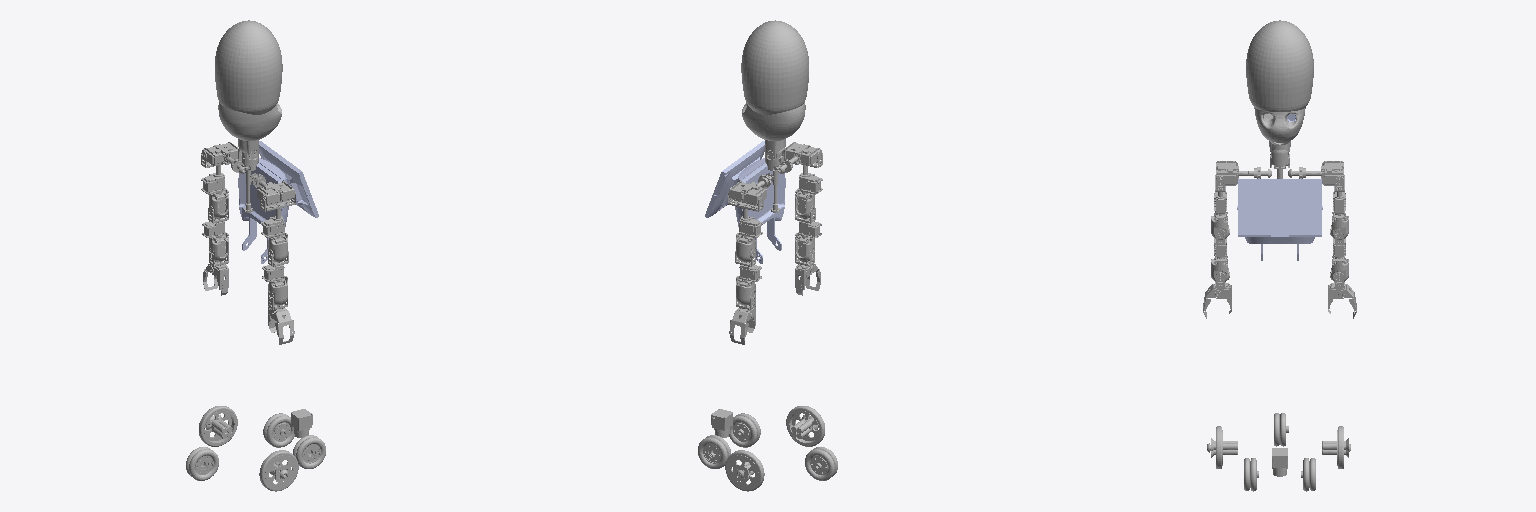
--- Facts derived from the render (not from the file) ---
3 views of the same robot in one strip: view 1: azimuth 30°, elevation 25°; view 2: azimuth 150°, elevation 25°; view 3: azimuth 270°, elevation 25° (orthographic).
Model bubot_description with 27 links and 26 joints (18 revolute, 5 continuous, 3 fixed), rooted at base_link, posed every joint at zero.
Links seen in each view (by area): view 1: head_pitch_link, tray_pitch_link, left_wheel_link, right_wheel_link, rear_wheel_link, right_front_wheel_link, left_front_wheel_link, right_arm_shoulder_pitch_link, left_arm_shoulder_pitch_link, right_arm_shoulder_roll_link, left_arm_shoulder_roll_link; view 2: head_pitch_link, tray_pitch_link, right_wheel_link, left_wheel_link, rear_wheel_link, left_front_wheel_link, right_front_wheel_link, left_arm_shoulder_pitch_link, right_arm_shoulder_pitch_link, left_arm_shoulder_roll_link, right_arm_shoulder_roll_link; view 3: head_pitch_link, tray_pitch_link, left_arm_shoulder_pitch_link, right_arm_shoulder_pitch_link, right_wheel_link, left_wheel_link.
Boxes of the visible links, <box> form: head_pitch_link: <box>215,20,282,157</box>; tray_pitch_link: <box>238,141,318,263</box>; left_wheel_link: <box>199,406,237,446</box>; right_wheel_link: <box>259,450,298,491</box>; rear_wheel_link: <box>186,447,218,480</box>; right_front_wheel_link: <box>293,435,325,468</box>; left_front_wheel_link: <box>263,413,294,447</box>; right_arm_shoulder_pitch_link: <box>250,173,294,205</box>; left_arm_shoulder_pitch_link: <box>202,142,245,173</box>; right_arm_shoulder_roll_link: <box>260,187,295,237</box>; left_arm_shoulder_roll_link: <box>201,151,235,194</box>; head_pitch_link: <box>741,20,808,157</box>; tray_pitch_link: <box>705,141,785,263</box>; right_wheel_link: <box>786,406,824,446</box>; left_wheel_link: <box>725,450,764,491</box>; rear_wheel_link: <box>805,447,837,480</box>; left_front_wheel_link: <box>698,435,730,468</box>; right_front_wheel_link: <box>729,413,760,447</box>; left_arm_shoulder_pitch_link: <box>729,173,773,205</box>; right_arm_shoulder_pitch_link: <box>778,142,821,173</box>; left_arm_shoulder_roll_link: <box>728,187,763,237</box>; right_arm_shoulder_roll_link: <box>788,151,822,194</box>; head_pitch_link: <box>1246,20,1313,154</box>; tray_pitch_link: <box>1237,179,1322,260</box>; left_arm_shoulder_pitch_link: <box>1288,161,1343,185</box>; right_arm_shoulder_pitch_link: <box>1216,161,1271,185</box>; right_wheel_link: <box>1207,426,1237,468</box>; left_wheel_link: <box>1322,426,1350,468</box>.
Size in the robot's own frame: 0.414 by 0.4535 by 1.45 metres.
24 mesh visuals loaded from 27 distinct referenced files (24 binary STL); not drawn: 3 (reference not matched to a file when rendering).

The robot description file, URDF, robot "bubot_description":
<?xml version="1.0" encoding="utf-8"?>
<!-- This URDF was automatically created by SolidWorks to URDF Exporter! Originally created by Stephen Brawner ([email redacted]) 
     Commit Version: 1.5.0-0-g9aa0fdb  Build Version: 1.5.7004.21443
     For more information, please see http://wiki.ros.org/sw_urdf_exporter -->
<robot
  name="bubot_description">
  <link
    name="base_link">
    <inertial>
      <origin
        xyz="0.00614507467316344 0.00132442548214557 0.111279328924944"
        rpy="0 0 0" />
      <mass
        value="17.5407923723636" />
      <inertia
        ixx="0.469469086185873"
        ixy="0.000459258543047036"
        ixz="0.0195713811597716"
        iyy="0.488079163056402"
        iyz="-0.00170511359318661"
        izz="0.269766482328618" />
    </inertial>
    <visual>
      <origin
        xyz="0 0 0"
        rpy="0 0 0" />
      <geometry>
        <mesh
          filename="package://bubot_description/meshes/base_link.STL" />
      </geometry>
      <material
        name="">
        <color
          rgba="0.792156862745098 0.819607843137255 0.933333333333333 1" />
      </material>
    </visual>
    <collision>
      <origin
        xyz="0 0 0"
        rpy="0 0 0" />
      <geometry>
        <mesh
          filename="package://bubot_description/meshes/base_link.STL" />
      </geometry>
    </collision>
  </link>
  <link
    name="left_wheel_link">
    <inertial>
      <origin
        xyz="-7.84851523104154E-11 -0.00332107438012788 8.73111291599393E-10"
        rpy="0 0 0" />
      <mass
        value="0.287293505141149" />
      <inertia
        ixx="0.000307503313942651"
        ixy="2.95562518254029E-12"
        ixz="-1.22548541274726E-17"
        iyy="0.000432551955047046"
        iyz="-3.80638695771607E-11"
        izz="0.000307503317768079" />
    </inertial>
    <visual>
      <origin
        xyz="0 0 0"
        rpy="0 0 0" />
      <geometry>
        <mesh
          filename="package://bubot_description/meshes/left_wheel_link.STL" />
      </geometry>
      <material
        name="">
        <color
          rgba="0.752941176470588 0.752941176470588 0.752941176470588 1" />
      </material>
    </visual>
    <collision>
      <origin
        xyz="0 0 0"
        rpy="0 0 0" />
      <geometry>
        <mesh
          filename="package://bubot_description/meshes/left_wheel_link.STL" />
      </geometry>
    </collision>
  </link>
  <joint
    name="left_wheel_joint"
    type="continuous">
    <origin
      xyz="0 0.1795 -0.0814300000000002"
      rpy="0 0 0" />
    <parent
      link="base_link" />
    <child
      link="left_wheel_link" />
    <axis
      xyz="0 -0.999999999999957 0" />
    
      
  </joint>
  <link
    name="right_wheel_link">
    <inertial>
      <origin
        xyz="4.93461377815295E-11 0.00299505405611283 7.77355430026105E-10"
        rpy="0 0 0" />
      <mass
        value="0.287293505141148" />
      <inertia
        ixx="0.00030858947346633"
        ixy="2.0428470969486E-12"
        ixz="1.19749316134548E-17"
        iyy="0.000432551955047045"
        iyz="3.77544364458498E-11"
        izz="0.000308589477291759" />
    </inertial>
    <visual>
      <origin
        xyz="0 0 0"
        rpy="0 0 0" />
      <geometry>
        <mesh
          filename="package://bubot_description/meshes/right_wheel_link.STL" />
      </geometry>
      <material
        name="">
        <color
          rgba="0.752941176470588 0.752941176470588 0.752941176470588 1" />
      </material>
    </visual>
    <collision>
      <origin
        xyz="0 0 0"
        rpy="0 0 0" />
      <geometry>
        <mesh
          filename="package://bubot_description/meshes/right_wheel_link.STL" />
      </geometry>
    </collision>
  </link>
  <joint
    name="right_wheel_joint"
    type="continuous">
    <origin
      xyz="0 -0.1795 -0.08143"
      rpy="0 0 0" />
    <parent
      link="base_link" />
    <child
      link="right_wheel_link" />
    <axis
      xyz="0 1 0" />
    
      
  </joint>
  <link
    name="left_front_wheel_link">
    <inertial>
      <origin
        xyz="-1.69586567011493E-14 -0.00184263548561878 -2.8047009159593E-14"
        rpy="0 0 0" />
      <mass
        value="0.292526122406118" />
      <inertia
        ixx="0.000182324161031027"
        ixy="-1.25120058784725E-20"
        ixz="-1.04220518069559E-21"
        iyy="0.000310962059892664"
        iyz="-1.5008782043789E-21"
        izz="0.000182324161031027" />
    </inertial>
    <visual>
      <origin
        xyz="0 0 0"
        rpy="0 0 0" />
      <geometry>
        <mesh
          filename="package://bubot_description/meshes/left_front_wheel_link.STL" />
      </geometry>
      <material
        name="">
        <color
          rgba="0.752941176470588 0.752941176470588 0.752941176470588 1" />
      </material>
    </visual>
    <collision>
      <origin
        xyz="0 0 0"
        rpy="0 0 0" />
      <geometry>
        <mesh
          filename="package://bubot_description/meshes/left_front_wheel_link.STL" />
      </geometry>
    </collision>
  </link>
  <joint
    name="left_front_wheel_joint"
    type="continuous">
    <origin
      xyz="0.157 0.0873 -0.09493"
      rpy="0 0 0" />
    <parent
      link="base_link" />
    <child
      link="left_front_wheel_link" />
    <axis
      xyz="0 1 0" />
    
      
  </joint>
  <link
    name="right_front_wheel_link">
    <inertial>
      <origin
        xyz="-1.69309011255336E-14 0.00184263548561878 -2.80192535839774E-14"
        rpy="0 0 0" />
      <mass
        value="0.292526122406118" />
      <inertia
        ixx="0.000182324161031027"
        ixy="1.88302295403389E-21"
        ixz="-4.18630938134262E-21"
        iyy="0.000310962059892664"
        iyz="-4.00692203468122E-21"
        izz="0.000182324161031027" />
    </inertial>
    <visual>
      <origin
        xyz="0 0 0"
        rpy="0 0 0" />
      <geometry>
        <mesh
          filename="package://bubot_description/meshes/right_front_wheel_link.STL" />
      </geometry>
      <material
        name="">
        <color
          rgba="0.752941176470588 0.752941176470588 0.752941176470588 1" />
      </material>
    </visual>
    <collision>
      <origin
        xyz="0 0 0"
        rpy="0 0 0" />
      <geometry>
        <mesh
          filename="package://bubot_description/meshes/right_front_wheel_link.STL" />
      </geometry>
    </collision>
  </link>
  <joint
    name="right_front_wheel_joint"
    type="continuous">
    <origin
      xyz="0.157 -0.0873 -0.09493"
      rpy="0 0 0" />
    <parent
      link="base_link" />
    <child
      link="right_front_wheel_link" />
    <axis
      xyz="0 -1 0" />
    
      
  </joint>
  <link
    name="rear_wheel_link">
    <inertial>
      <origin
        xyz="0 0.0018426354861247 0"
        rpy="0 0 0" />
      <mass
        value="0.292526122406118" />
      <inertia
        ixx="0.000182324161031027"
        ixy="9.01577989152663E-21"
        ixz="-6.34838413139654E-21"
        iyy="0.000310962059892664"
        iyz="-1.24832850142728E-20"
        izz="0.000182324161031027" />
    </inertial>
    <visual>
      <origin
        xyz="0 0 0"
        rpy="0 0 0" />
      <geometry>
        <mesh
          filename="package://bubot_description/meshes/rear_wheel_link.STL" />
      </geometry>
      <material
        name="">
        <color
          rgba="0.752941176470588 0.752941176470588 0.752941176470588 1" />
      </material>
    </visual>
    <collision>
      <origin
        xyz="0 0 0"
        rpy="0 0 0" />
      <geometry>
        <mesh
          filename="package://bubot_description/meshes/rear_wheel_link.STL" />
      </geometry>
    </collision>
  </link>
  <joint
    name="rear_wheel_joint"
    type="continuous">
    <origin
      xyz="-0.156999999999998 0 -0.0949300000000002"
      rpy="0 0 0" />
    <parent
      link="base_link" />
    <child
      link="rear_wheel_link" />
    <axis
      xyz="0 -1 0" />
    
      
  </joint>
  <link
    name="front_laser_mountpoint_link">
    <inertial>
      <origin
        xyz="0.0109910978700271 -0.00660628943773737 -0.0102231270512427"
        rpy="0 0 0" />
      <mass
        value="0.142293449327418" />
      <inertia
        ixx="7.99749503749484E-05"
        ixy="7.56325152192464E-08"
        ixz="2.6339172338324E-08"
        iyy="8.01694611303598E-05"
        iyz="1.99081597083217E-07"
        izz="4.9027575487778E-05" />
    </inertial>
    <visual>
      <origin
        xyz="0 0 0"
        rpy="0 0 0" />
      <geometry>
        <mesh
          filename="package://bubot_description/meshes/front_laser_mountpoint_link.STL" />
      </geometry>
      <material
        name="">
        <color
          rgba="0.752941176470588 0.752941176470588 0.752941176470588 1" />
      </material>
    </visual>
    <collision>
      <origin
        xyz="0 0 0"
        rpy="0 0 0" />
      <geometry>
        <mesh
          filename="package://bubot_description/meshes/front_laser_mountpoint_link.STL" />
      </geometry>
    </collision>
  </link>
  <joint
    name="front_laser_mountpoint_joint"
    type="fixed">
    <origin
      xyz="0.169930018642521 0.00655022800475659 -0.0313817529714081"
      rpy="0 0 0" />
    <parent
      link="base_link" />
    <child
      link="front_laser_mountpoint_link" />
    <axis
      xyz="0 0 0" />
    
      
  </joint>
  <link
    name="torso_yaw_link">
    <inertial>
      <origin
        xyz="-0.0211836539763696 3.71816208305583E-05 0.134250337044029"
        rpy="0 0 0" />
      <mass
        value="15.384134203599" />
      <inertia
        ixx="0.502071562161703"
        ixy="-4.51403345740403E-06"
        ixz="-0.036488125429086"
        iyy="0.466071581377529"
        iyz="9.71646967407404E-05"
        izz="0.120092843605433" />
    </inertial>
    <visual>
      <origin
        xyz="0 0 0"
        rpy="0 0 0" />
      <geometry>
        <mesh
          filename="package://bubot_description/meshes/torso_yaw_link.STL" />
      </geometry>
      <material
        name="">
        <color
          rgba="0.792156862745098 0.819607843137255 0.933333333333333 1" />
      </material>
    </visual>
    <collision>
      <origin
        xyz="0 0 0"
        rpy="0 0 0" />
      <geometry>
        <mesh
          filename="package://bubot_description/meshes/torso_yaw_link.STL" />
      </geometry>
    </collision>
  </link>
  <joint
    name="torso_yaw_joint"
    type="revolute">
    <origin
      xyz="0 0 0.5265"
      rpy="0 0 0" />
    <parent
      link="base_link" />
    <child
      link="torso_yaw_link" />
    <axis
      xyz="0 0 1" />
    <limit
      lower="-0.79"
      upper="0.79"
      effort="10"
      velocity="1" />
    
      
  </joint>
  <link
    name="tray_pitch_link">
    <inertial>
      <origin
        xyz="0.0621721863824356 0.000728335369562271 0.180477032954461"
        rpy="0 0 0" />
      <mass
        value="2.98068027802018" />
      <inertia
        ixx="0.0194947536832028"
        ixy="-7.48678413809687E-05"
        ixz="-0.00132900861679371"
        iyy="0.011613140525037"
        iyz="-5.37259655538909E-05"
        izz="0.0142243951256448" />
    </inertial>
    <visual>
      <origin
        xyz="0 0 0"
        rpy="0 0 0" />
      <geometry>
        <mesh
          filename="package://bubot_description/meshes/tray_pitch_link.STL" />
      </geometry>
      <material
        name="">
        <color
          rgba="0.792156862745098 0.819607843137255 0.933333333333333 1" />
      </material>
    </visual>
    <collision>
      <origin
        xyz="0 0 0"
        rpy="0 0 0" />
      <geometry>
        <mesh
          filename="package://bubot_description/meshes/tray_pitch_link.STL" />
      </geometry>
    </collision>
  </link>
  <joint
    name="tray_pitch_joint"
    type="revolute">
    <origin
      xyz="0.02548 0 0.028"
      rpy="0 0 0" />
    <parent
      link="torso_yaw_link" />
    <child
      link="tray_pitch_link" />
    <axis
      xyz="0 1 0" />
    <limit
      lower="-1.57"
      upper="0"
      effort="10"
      velocity="1" />
    
      
  </joint>
  <link
    name="head_yaw_link">
    <inertial>
      <origin
        xyz="0.0014962219880101 -3.04882859083288E-05 0.00782467988013213"
        rpy="0 0 0" />
      <mass
        value="0.201333205297474" />
      <inertia
        ixx="0.000736239714581384"
        ixy="-1.14109916065634E-08"
        ixz="-9.99042992566853E-06"
        iyy="0.00072938836390482"
        iyz="-1.17463954570097E-07"
        izz="5.17097177907421E-05" />
    </inertial>
    <visual>
      <origin
        xyz="0 0 0"
        rpy="0 0 0" />
      <geometry>
        <mesh
          filename="package://bubot_description/meshes/head_yaw_link.STL" />
      </geometry>
      <material
        name="">
        <color
          rgba="0.752941176470588 0.752941176470588 0.752941176470588 1" />
      </material>
    </visual>
    <collision>
      <origin
        xyz="0 0 0"
        rpy="0 0 0" />
      <geometry>
        <mesh
          filename="package://bubot_description/meshes/head_yaw_link.STL" />
      </geometry>
    </collision>
  </link>
  <joint
    name="head_yaw_joint"
    type="revolute">
    <origin
      xyz="0 0 0.30737"
      rpy="0 0 0" />
    <parent
      link="torso_yaw_link" />
    <child
      link="head_yaw_link" />
    <axis
      xyz="0 0 1" />
    <limit
      lower="-0.79"
      upper="0.79"
      effort="10"
      velocity="1" />
    
      
  </joint>
  <link
    name="head_pitch_link">
    <inertial>
      <origin
        xyz="0.00135536661040343 -0.000122880868704684 0.251021558465587"
        rpy="0 0 0" />
      <mass
        value="5.58924337729417" />
      <inertia
        ixx="0.0614222666404918"
        ixy="-9.13342160102728E-06"
        ixz="0.00139479623362596"
        iyy="0.0627976215444188"
        iyz="-5.50046240195658E-05"
        izz="0.0288452581063919" />
    </inertial>
    <visual>
      <origin
        xyz="0 0 0"
        rpy="0 0 0" />
      <geometry>
        <mesh
          filename="package://bubot_description/meshes/head_pitch_link.STL" />
      </geometry>
      <material
        name="">
        <color
          rgba="0.752941176470588 0.752941176470588 0.752941176470588 1" />
      </material>
    </visual>
    <collision>
      <origin
        xyz="0 0 0"
        rpy="0 0 0" />
      <geometry>
        <mesh
          filename="package://bubot_description/meshes/head_pitch_link.STL" />
      </geometry>
    </collision>
  </link>
  <joint
    name="head_pitch_joint"
    type="revolute">
    <origin
      xyz="0 0 0.0545"
      rpy="0 0 0" />
    <parent
      link="head_yaw_link" />
    <child
      link="head_pitch_link" />
    <axis
      xyz="0 -1 0" />
    <limit
      lower="-0.4"
      upper="0.4"
      effort="10"
      velocity="1" />
    
      
  </joint>
  <link
    name="left_camera_link">
    <inertial>
      <origin
        xyz="-0.0267186601902245 5.79327189692558E-09 -0.00151976594563874"
        rpy="0 0 0" />
      <mass
        value="0.040493403492273" />
      <inertia
        ixx="5.29997303158495E-06"
        ixy="3.00820822720973E-12"
        ixz="-4.20967409707152E-07"
        iyy="1.30948609116678E-05"
        iyz="2.95114820905194E-12"
        izz="1.19423729648629E-05" />
    </inertial>
    <visual>
      <origin
        xyz="0 0 0"
        rpy="0 0 0" />
      <geometry>
        <mesh
          filename="package://bubot_description/meshes/left_camera_link.STL" />
      </geometry>
      <material
        name="">
        <color
          rgba="0.792156862745098 0.819607843137255 0.933333333333333 1" />
      </material>
    </visual>
    <collision>
      <origin
        xyz="0 0 0"
        rpy="0 0 0" />
      <geometry>
        <mesh
          filename="package://bubot_description/meshes/left_camera_link.STL" />
      </geometry>
    </collision>
  </link>
  <joint
    name="left_camera_joint"
    type="fixed">
    <origin
      xyz="0.06349 0.034249 0.13677"
      rpy="0 0 0" />
    <parent
      link="head_pitch_link" />
    <child
      link="left_camera_link" />
    <axis
      xyz="0 0 0" />
    
      
  </joint>
  <link
    name="right_camera_link">
    <inertial>
      <origin
        xyz="-0.0267186601902246 5.79327180671996E-09 -0.00151976594563896"
        rpy="0 0 0" />
      <mass
        value="0.0404934034922726" />
      <inertia
        ixx="5.29997303158491E-06"
        ixy="3.00820827741918E-12"
        ixz="-4.20967409707142E-07"
        iyy="1.30948609116678E-05"
        iyz="2.95114823210664E-12"
        izz="1.19423729648629E-05" />
    </inertial>
    <visual>
      <origin
        xyz="0 0 0"
        rpy="0 0 0" />
      <geometry>
        <mesh
          filename="package://bubot_description/meshes/right_camera_link.STL" />
      </geometry>
      <material
        name="">
        <color
          rgba="0.792156862745098 0.819607843137255 0.933333333333333 1" />
      </material>
    </visual>
    <collision>
      <origin
        xyz="0 0 0"
        rpy="0 0 0" />
      <geometry>
        <mesh
          filename="package://bubot_description/meshes/right_camera_link.STL" />
      </geometry>
    </collision>
  </link>
  <joint
    name="right_camera_joint"
    type="fixed">
    <origin
      xyz="0.06349 -0.034249 0.13677"
      rpy="0 0 0" />
    <parent
      link="head_pitch_link" />
    <child
      link="right_camera_link" />
    <axis
      xyz="0 0 0" />
    
      
  </joint>
  <link
    name="left_arm_shoulder_pitch_link">
    <inertial>
      <origin
        xyz="-2.01847045650135E-05 -0.0451116289125171 -2.35599322817581E-06"
        rpy="0 0 0" />
      <mass
        value="0.306747657838696" />
      <inertia
        ixx="0.000644985216105913"
        ixy="-3.96276186346391E-07"
        ixz="8.03414796312445E-09"
        iyy="0.000167167127049386"
        iyz="-4.26302036483178E-08"
        izz="0.000757573229516701" />
    </inertial>
    <visual>
      <origin
        xyz="0 0 0"
        rpy="0 0 0" />
      <geometry>
        <mesh
          filename="package://bubot_description/meshes/left_arm_shoulder_pitch_link.STL" />
      </geometry>
      <material
        name="">
        <color
          rgba="0.752941176470588 0.752941176470588 0.752941176470588 1" />
      </material>
    </visual>
    <collision>
      <origin
        xyz="0 0 0"
        rpy="0 0 0" />
      <geometry>
        <mesh
          filename="package://bubot_description/meshes/left_arm_shoulder_pitch_link.STL" />
      </geometry>
    </collision>
  </link>
  <joint
    name="left_arm_shoulder_pitch_joint"
    type="revolute">
    <origin
      xyz="0 0.17524 0.28577"
      rpy="0 0 0" />
    <parent
      link="torso_yaw_link" />
    <child
      link="left_arm_shoulder_pitch_link" />
    <axis
      xyz="0 -1 0" />
    <limit
      lower="-0.52"
      upper="2.62"
      effort="10"
      velocity="1" />
    
      
  </joint>
  <link
    name="left_arm_shoulder_roll_link">
    <inertial>
      <origin
        xyz="-0.00935726062318225 1.85211083744696E-06 -0.0749352243453262"
        rpy="0 0 0" />
      <mass
        value="0.148223892772267" />
      <inertia
        ixx="0.000205311872027797"
        ixy="4.49394119027176E-10"
        ixz="-3.57142199446871E-05"
        iyy="0.000287705166912236"
        iyz="5.8749575095666E-09"
        izz="0.000108432879463927" />
    </inertial>
    <visual>
      <origin
        xyz="0 0 0"
        rpy="0 0 0" />
      <geometry>
        <mesh
          filename="package://bubot_description/meshes/left_arm_shoulder_roll_link.STL" />
      </geometry>
      <material
        name="">
        <color
          rgba="0.752941176470588 0.752941176470588 0.752941176470588 1" />
      </material>
    </visual>
    <collision>
      <origin
        xyz="0 0 0"
        rpy="0 0 0" />
      <geometry>
        <mesh
          filename="package://bubot_description/meshes/left_arm_shoulder_roll_link.STL" />
      </geometry>
    </collision>
  </link>
  <joint
    name="left_arm_shoulder_roll_joint"
    type="revolute">
    <origin
      xyz="0 0 0"
      rpy="0 0 0" />
    <parent
      link="left_arm_shoulder_pitch_link" />
    <child
      link="left_arm_shoulder_roll_link" />
    <axis
      xyz="1 0 0" />
    <limit
      lower="-1.57"
      upper="0.8"
      effort="10"
      velocity="1" />
    
      
  </joint>
  <link
    name="left_arm_shoulder_yaw_link">
    <inertial>
      <origin
        xyz="-4.01901055222955E-05 0.00197241738066228 -0.0389134846245449"
        rpy="0 0 0" />
      <mass
        value="0.152725889069381" />
      <inertia
        ixx="0.000108787432464282"
        ixy="-1.43335608439823E-08"
        ixz="2.92942408618662E-07"
        iyy="0.000115714604896234"
        iyz="1.37835570785637E-06"
        izz="5.03538269720473E-05" />
    </inertial>
    <visual>
      <origin
        xyz="0 0 0"
        rpy="0 0 0" />
      <geometry>
        <mesh
          filename="package://bubot_description/meshes/left_arm_shoulder_yaw_link.STL" />
      </geometry>
      <material
        name="">
        <color
          rgba="0.752941176470588 0.752941176470588 0.752941176470588 1" />
      </material>
    </visual>
    <collision>
      <origin
        xyz="0 0 0"
        rpy="0 0 0" />
      <geometry>
        <mesh
          filename="package://bubot_description/meshes/left_arm_shoulder_yaw_link.STL" />
      </geometry>
    </collision>
  </link>
  <joint
    name="left_arm_shoulder_yaw_joint"
    type="revolute">
    <origin
      xyz="0 0 -0.1284"
      rpy="0 0 0" />
    <parent
      link="left_arm_shoulder_roll_link" />
    <child
      link="left_arm_shoulder_yaw_link" />
    <axis
      xyz="0 0 1" />
    <limit
      lower="-1.57"
      upper="1.57"
      effort="10"
      velocity="1" />
    
      
  </joint>
  <link
    name="left_arm_elbow_roll_link">
    <inertial>
      <origin
        xyz="-0.0133479498953629 -1.74693127491521E-07 -0.0554210342087247"
        rpy="0 0 0" />
      <mass
        value="0.225143095717014" />
      <inertia
        ixx="9.98807488182808E-05"
        ixy="2.45099920488333E-10"
        ixz="-1.60210737229541E-05"
        iyy="0.000150288035346698"
        iyz="5.4288554667378E-10"
        izz="9.03563982672108E-05" />
    </inertial>
    <visual>
      <origin
        xyz="0 0 0"
        rpy="0 0 0" />
      <geometry>
        <mesh
          filename="package://bubot_description/meshes/left_arm_elbow_roll_link.STL" />
      </geometry>
      <material
        name="">
        <color
          rgba="0.752941176470588 0.752941176470588 0.752941176470588 1" />
      </material>
    </visual>
    <collision>
      <origin
        xyz="0 0 0"
        rpy="0 0 0" />
      <geometry>
        <mesh
          filename="package://bubot_description/meshes/left_arm_elbow_roll_link.STL" />
      </geometry>
    </collision>
  </link>
  <joint
    name="left_arm_elbow_roll_joint"
    type="revolute">
    <origin
      xyz="0 0 -0.057"
      rpy="0 0 0" />
    <parent
      link="left_arm_shoulder_yaw_link" />
    <child
      link="left_arm_elbow_roll_link" />
    <axis
      xyz="1 0 0" />
    <limit
      lower="-1.57"
      upper="0"
      effort="10"
      velocity="1" />
    
      
  </joint>
  <link
    name="left_arm_forearm_yaw_link">
    <inertial>
      <origin
        xyz="-6.6970770083286E-05 0.00116472445725802 -0.0378005926629413"
        rpy="0 0 0" />
      <mass
        value="0.258905060533676" />
      <inertia
        ixx="0.000139306913841423"
        ixy="-2.0253581906963E-08"
        ixz="7.15620929206833E-07"
        iyy="0.000149549619429831"
        iyz="9.41595146498601E-07"
        izz="7.19910419186781E-05" />
    </inertial>
    <visual>
      <origin
        xyz="0 0 0"
        rpy="0 0 0" />
      <geometry>
        <mesh
          filename="package://bubot_description/meshes/left_arm_forearm_yaw_link.STL" />
      </geometry>
      <material
        name="">
        <color
          rgba="0.752941176470588 0.752941176470588 0.752941176470588 1" />
      </material>
    </visual>
    <collision>
      <origin
        xyz="0 0 0"
        rpy="0 0 0" />
      <geometry>
        <mesh
          filename="package://bubot_description/meshes/left_arm_forearm_yaw_link.STL" />
      </geometry>
    </collision>
  </link>
  <joint
    name="left_arm_forearm_yaw_joint"
    type="revolute">
    <origin
      xyz="0 0 -0.0859"
      rpy="0 0 0" />
    <parent
      link="left_arm_elbow_roll_link" />
    <child
      link="left_arm_forearm_yaw_link" />
    <axis
      xyz="0 0 1" />
    <limit
      lower="-1.57"
      upper="1.57"
      effort="10"
      velocity="1" />
    
      
  </joint>
  <link
    name="left_arm_wrist_roll_link">
    <inertial>
      <origin
        xyz="7.35434333757039E-05 -0.00440529803418652 -0.0544053642249812"
        rpy="0 0 0" />
      <mass
        value="0.280294928579261" />
      <inertia
        ixx="0.000132795074211678"
        ixy="-2.96287980415066E-07"
        ixz="3.42523704486071E-07"
        iyy="0.000117756363395381"
        iyz="-1.48425806925107E-05"
        izz="9.47251038940315E-05" />
    </inertial>
    <visual>
      <origin
        xyz="0 0 0"
        rpy="0 0 0" />
      <geometry>
        <mesh
          filename="package://bubot_description/meshes/left_arm_wrist_roll_link.STL" />
      </geometry>
      <material
        name="">
        <color
          rgba="0.752941176470588 0.752941176470588 0.752941176470588 1" />
      </material>
    </visual>
    <collision>
      <origin
        xyz="0 0 0"
        rpy="0 0 0" />
      <geometry>
        <mesh
          filename="package://bubot_description/meshes/left_arm_wrist_roll_link.STL" />
      </geometry>
    </collision>
  </link>
  <joint
    name="left_arm_wrist_roll_joint"
    type="revolute">
    <origin
      xyz="0 0 -0.0545"
      rpy="0 0 0" />
    <parent
      link="left_arm_forearm_yaw_link" />
    <child
      link="left_arm_wrist_roll_link" />
    <axis
      xyz="1 0 0" />
    <limit
      lower="-1.57"
      upper="0.5"
      effort="10"
      velocity="1" />
    
      
  </joint>
  <link
    name="left_gripper_link">
    <inertial>
      <origin
        xyz="-0.000991234955939549 0.026129079228895 -0.021578203651113"
        rpy="0 0 0" />
      <mass
        value="0.0259118393412755" />
      <inertia
        ixx="2.26169168850478E-05"
        ixy="-6.71117975004994E-07"
        ixz="5.54229703889131E-07"
        iyy="2.68146617009823E-05"
        iyz="6.49688575835065E-06"
        izz="1.4469767247106E-05" />
    </inertial>
    <visual>
      <origin
        xyz="0 0 0"
        rpy="0 0 0" />
      <geometry>
        <mesh
          filename="package://bubot_description/meshes/left_gripper_link.STL" />
      </geometry>
      <material
        name="">
        <color
          rgba="0.752941176470588 0.752941176470588 0.752941176470588 1" />
      </material>
    </visual>
    <collision>
      <origin
        xyz="0 0 0"
        rpy="0 0 0" />
      <geometry>
        <mesh
          filename="package://bubot_description/meshes/left_gripper_link.STL" />
      </geometry>
    </collision>
  </link>
  <joint
    name="left_gripper_joint"
    type="revolute">
    <origin
      xyz="0.0001 0.008 -0.057"
      rpy="0 0 0" />
    <parent
      link="left_arm_wrist_roll_link" />
    <child
      link="left_gripper_link" />
    <axis
      xyz="1 0 0" />
    <limit
      lower="-1.57"
      upper="0"
      effort="10"
      velocity="1" />
    
      
  </joint>
  <link
    name="right_arm_shoulder_pitch_link">
    <inertial>
      <origin
        xyz="-2.01847045647611E-05 0.0451116289125171 2.35599323250568E-06"
        rpy="0 0 0" />
      <mass
        value="0.306747657838696" />
      <inertia
        ixx="0.000644985216105911"
        ixy="3.96276186342984E-07"
        ixz="-8.03414796694001E-09"
        iyy="0.000167167127049385"
        iyz="-4.26302037216061E-08"
        izz="0.000757573229516699" />
    </inertial>
    <visual>
      <origin
        xyz="0 0 0"
        rpy="0 0 0" />
      <geometry>
        <mesh
          filename="package://bubot_description/meshes/right_arm_shoulder_pitch_link.STL" />
      </geometry>
      <material
        name="">
        <color
          rgba="0.752941176470588 0.752941176470588 0.752941176470588 1" />
      </material>
    </visual>
    <collision>
      <origin
        xyz="0 0 0"
        rpy="0 0 0" />
      <geometry>
        <mesh
          filename="package://bubot_description/meshes/right_arm_shoulder_pitch_link.STL" />
      </geometry>
    </collision>
  </link>
  <joint
    name="right_arm_shoulder_pitch_joint"
    type="revolute">
    <origin
      xyz="0 -0.17524 0.28577"
      rpy="0 0 0" />
    <parent
      link="torso_yaw_link" />
    <child
      link="right_arm_shoulder_pitch_link" />
    <axis
      xyz="0 1 0" />
    <limit
      lower="-2.62"
      upper="0.52"
      effort="10"
      velocity="1" />
    
      
  </joint>
  <link
    name="right_arm_shoulder_roll_link">
    <inertial>
      <origin
        xyz="-0.00935726062318807 1.85250750658894E-06 -0.0749352247419803"
        rpy="0 0 0" />
      <mass
        value="0.148223892772287" />
      <inertia
        ixx="0.000205311863216038"
        ixy="4.48844260026596E-10"
        ixz="-3.57142193941647E-05"
        iyy="0.000287705165751563"
        iyz="5.87055159724753E-09"
        izz="0.000108432871812912" />
    </inertial>
    <visual>
      <origin
        xyz="0 0 0"
        rpy="0 0 0" />
      <geometry>
        <mesh
          filename="package://bubot_description/meshes/right_arm_shoulder_roll_link.STL" />
      </geometry>
      <material
        name="">
        <color
          rgba="0.752941176470588 0.752941176470588 0.752941176470588 1" />
      </material>
    </visual>
    <collision>
      <origin
        xyz="0 0 0"
        rpy="0 0 0" />
      <geometry>
        <mesh
          filename="package://bubot_description/meshes/right_arm_shoulder_roll_link.STL" />
      </geometry>
    </collision>
  </link>
  <joint
    name="right_arm_shoulder_roll_joint"
    type="revolute">
    <origin
      xyz="0 0 0"
      rpy="0 0 0" />
    <parent
      link="right_arm_shoulder_pitch_link" />
    <child
      link="right_arm_shoulder_roll_link" />
    <axis
      xyz="-1 0 0" />
    <limit
      lower="-0.8"
      upper="1.57"
      effort="10"
      velocity="1" />
    
      
  </joint>
  <link
    name="right_arm_shoulder_yaw_link">
    <inertial>
      <origin
        xyz="-2.54421664651325E-05 -0.00197652841663448 -0.0389134846245834"
        rpy="0 0 0" />
      <mass
        value="0.152725889069381" />
      <inertia
        ixx="0.000108784953072904"
        ixy="5.45342629693321E-09"
        ixz="3.95523713396294E-07"
        iyy="0.000115714752725992"
        iyz="-1.38311998572724E-06"
        izz="5.0351495410133E-05" />
    </inertial>
    <visual>
      <origin
        xyz="0 0 0"
        rpy="0 0 0" />
      <geometry>
        <mesh
          filename="package://bubot_description/meshes/right_arm_shoulder_yaw_link.STL" />
      </geometry>
      <material
        name="">
        <color
          rgba="0.752941176470588 0.752941176470588 0.752941176470588 1" />
      </material>
    </visual>
    <collision>
      <origin
        xyz="0 0 0"
        rpy="0 0 0" />
      <geometry>
        <mesh
          filename="package://bubot_description/meshes/right_arm_shoulder_yaw_link.STL" />
      </geometry>
    </collision>
  </link>
  <joint
    name="right_arm_shoulder_yaw_joint"
    type="revolute">
    <origin
      xyz="0 0 -0.1284"
      rpy="0 0 0" />
    <parent
      link="right_arm_shoulder_roll_link" />
    <child
      link="right_arm_shoulder_yaw_link" />
    <axis
      xyz="0 0 -1" />
    <limit
      lower="-1.57"
      upper="1.57"
      effort="10"
      velocity="1" />
    
      
  </joint>
  <link
    name="right_arm_elbow_roll_link">
    <inertial>
      <origin
        xyz="-0.0133479498953628 -1.74693131543835E-07 -0.0554210342087247"
        rpy="0 0 0" />
      <mass
        value="0.225143095717014" />
      <inertia
        ixx="9.98807488182809E-05"
        ixy="2.45099919047629E-10"
        ixz="-1.60210737229541E-05"
        iyy="0.000150288035346699"
        iyz="5.42885542318241E-10"
        izz="9.03563982672107E-05" />
    </inertial>
    <visual>
      <origin
        xyz="0 0 0"
        rpy="0 0 0" />
      <geometry>
        <mesh
          filename="package://bubot_description/meshes/right_arm_elbow_roll_link.STL" />
      </geometry>
      <material
        name="">
        <color
          rgba="0.752941176470588 0.752941176470588 0.752941176470588 1" />
      </material>
    </visual>
    <collision>
      <origin
        xyz="0 0 0"
        rpy="0 0 0" />
      <geometry>
        <mesh
          filename="package://bubot_description/meshes/right_arm_elbow_roll_link.STL" />
      </geometry>
    </collision>
  </link>
  <joint
    name="right_arm_elbow_roll_joint"
    type="revolute">
    <origin
      xyz="0 0 -0.057"
      rpy="0 0 0" />
    <parent
      link="right_arm_shoulder_yaw_link" />
    <child
      link="right_arm_elbow_roll_link" />
    <axis
      xyz="1 0 0" />
    <limit
      lower="0"
      upper="1.57"
      effort="10"
      velocity="1" />
    
      
  </joint>
  <link
    name="right_arm_forearm_yaw_link">
    <inertial>
      <origin
        xyz="-5.82710865038856E-05 -0.00116472501945633 -0.037800592662962"
        rpy="0 0 0" />
      <mass
        value="0.258905060533675" />
      <inertia
        ixx="0.000139306913502481"
        ixy="1.75134911845078E-08"
        ixz="8.15077015953276E-07"
        iyy="0.000149549901523719"
        iyz="-9.41602233040027E-07"
        izz="7.19913236733835E-05" />
    </inertial>
    <visual>
      <origin
        xyz="0 0 0"
        rpy="0 0 0" />
      <geometry>
        <mesh
          filename="package://bubot_description/meshes/right_arm_forearm_yaw_link.STL" />
      </geometry>
      <material
        name="">
        <color
          rgba="0.752941176470588 0.752941176470588 0.752941176470588 1" />
      </material>
    </visual>
    <collision>
      <origin
        xyz="0 0 0"
        rpy="0 0 0" />
      <geometry>
        <mesh
          filename="package://bubot_description/meshes/right_arm_forearm_yaw_link.STL" />
      </geometry>
    </collision>
  </link>
  <joint
    name="right_arm_forearm_yaw_joint"
    type="revolute">
    <origin
      xyz="0 0 -0.0859"
      rpy="0 0 0" />
    <parent
      link="right_arm_elbow_roll_link" />
    <child
      link="right_arm_forearm_yaw_link" />
    <axis
      xyz="0 0 -1" />
    <limit
      lower="-1.57"
      upper="1.57"
      effort="10"
      velocity="1" />
    
      
  </joint>
  <link
    name="right_arm_wrist_roll_link">
    <inertial>
      <origin
        xyz="-0.000136224402740855 0.00440529803529258 -0.0544053636252678"
        rpy="0 0 0" />
      <mass
        value="0.280294928567053" />
      <inertia
        ixx="0.000132795073332597"
        ixy="6.39250660584392E-07"
        ixz="1.89973116759433E-07"
        iyy="0.000117752677076981"
        iyz="1.48425857231549E-05"
        izz="9.47214184411057E-05" />
    </inertial>
    <visual>
      <origin
        xyz="0 0 0"
        rpy="0 0 0" />
      <geometry>
        <mesh
          filename="package://bubot_description/meshes/right_arm_wrist_roll_link.STL" />
      </geometry>
      <material
        name="">
        <color
          rgba="0.752941176470588 0.752941176470588 0.752941176470588 1" />
      </material>
    </visual>
    <collision>
      <origin
        xyz="0 0 0"
        rpy="0 0 0" />
      <geometry>
        <mesh
          filename="package://bubot_description/meshes/right_arm_wrist_roll_link.STL" />
      </geometry>
    </collision>
  </link>
  <joint
    name="right_arm_wrist_roll_joint"
    type="revolute">
    <origin
      xyz="0 0 -0.0545"
      rpy="0 0 0" />
    <parent
      link="right_arm_forearm_yaw_link" />
    <child
      link="right_arm_wrist_roll_link" />
    <axis
      xyz="1 0 0" />
    <limit
      lower="-0.5"
      upper="1.57"
      effort="10"
      velocity="1" />
    
      
  </joint>
  <link
    name="right_gripper_link">
    <inertial>
      <origin
        xyz="-0.000991234470215046 -0.0261290792276228 -0.0215782036495957"
        rpy="0 0 0" />
      <mass
        value="0.0259118393412762" />
      <inertia
        ixx="2.26169168884705E-05"
        ixy="6.71118221152274E-07"
        ixz="5.54230043124119E-07"
        iyy="2.68146617276616E-05"
        iyz="-6.49688576008527E-06"
        izz="1.44697672737526E-05" />
    </inertial>
    <visual>
      <origin
        xyz="0 0 0"
        rpy="0 0 0" />
      <geometry>
        <mesh
          filename="package://bubot_description/meshes/right_gripper_link.STL" />
      </geometry>
      <material
        name="">
        <color
          rgba="0.752941176470588 0.752941176470588 0.752941176470588 1" />
      </material>
    </visual>
    <collision>
      <origin
        xyz="0 0 0"
        rpy="0 0 0" />
      <geometry>
        <mesh
          filename="package://bubot_description/meshes/right_gripper_link.STL" />
      </geometry>
    </collision>
  </link>
  <joint
    name="right_gripper_joint"
    type="revolute">
    <origin
      xyz="0.0001 -0.008 -0.057"
      rpy="0 0 0" />
    <parent
      link="right_arm_wrist_roll_link" />
    <child
      link="right_gripper_link" />
    <axis
      xyz="1 0 0" />
    <limit
      lower="0"
      upper="1.57"
      effort="10"
      velocity="1" />
    
      
  </joint>
</robot>
